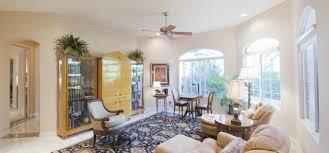chair: (88, 101, 130, 151), (239, 104, 280, 124), (196, 92, 216, 122), (171, 89, 188, 119)
door: (11, 45, 28, 125)
fan: (139, 10, 195, 43)
light: (238, 65, 260, 106), (225, 81, 245, 111), (151, 79, 162, 94), (239, 11, 249, 19), (154, 30, 161, 37)
sofa: (157, 125, 298, 153)
table: (197, 113, 254, 138), (178, 92, 204, 122), (154, 94, 167, 111)
